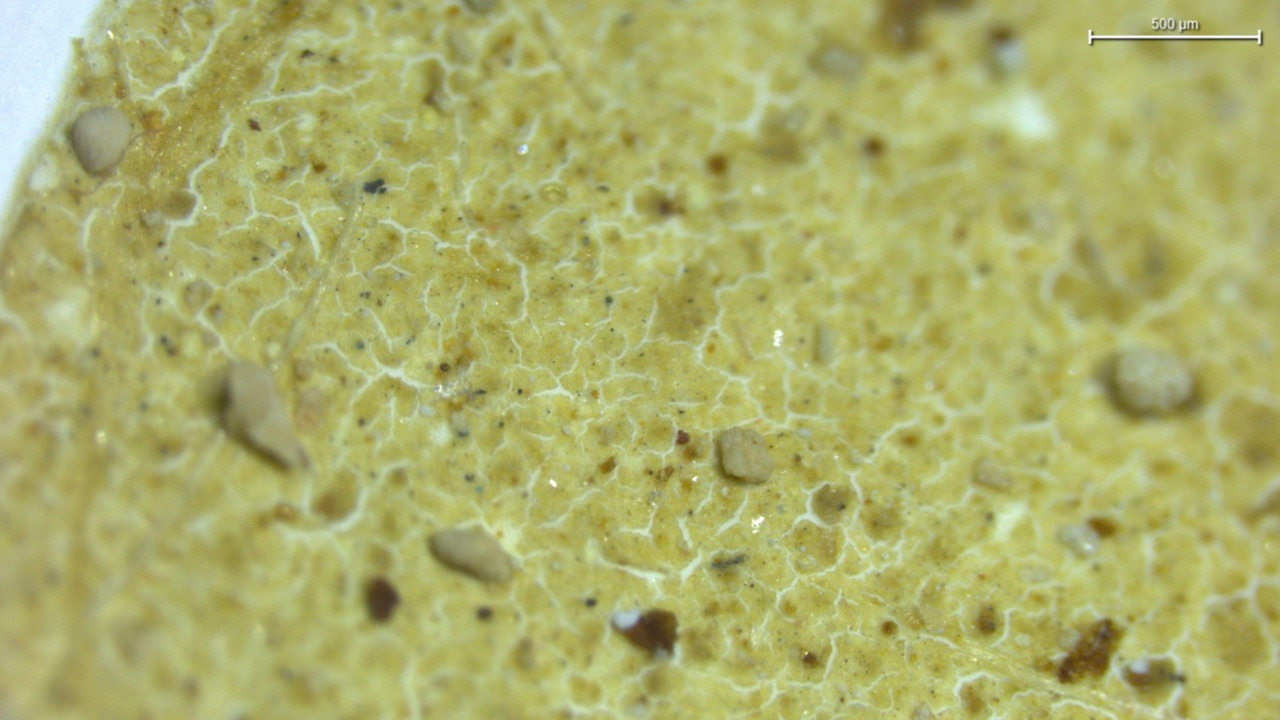microplastic_fragment: (222, 362, 306, 467), (429, 528, 513, 583), (715, 427, 775, 484)
